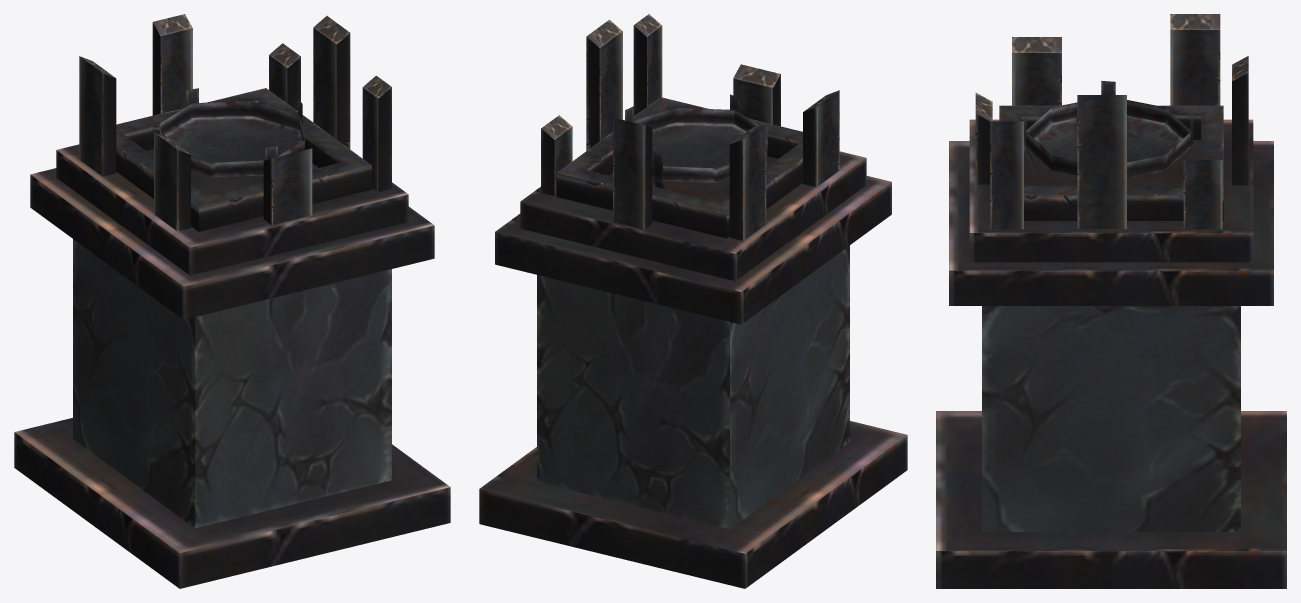
The model's file is B_qiaodun001.fbx.
3 renders of one model, left to right at view 1: azimuth 30°, elevation 25°; view 2: azimuth 150°, elevation 25°; view 3: azimuth 270°, elevation 25°, orthographic. The views are drawn at different scales.
Visible parts, largest first — view 1: B_qiaodun001; view 2: B_qiaodun001; view 3: B_qiaodun001.
Part boxes in pixels (bbox=[...]): B_qiaodun001: bbox=[14, 14, 450, 588]; B_qiaodun001: bbox=[479, 14, 907, 588]; B_qiaodun001: bbox=[936, 14, 1286, 588].
Size of the model in its own units: 63.44 by 101 by 67.15.
